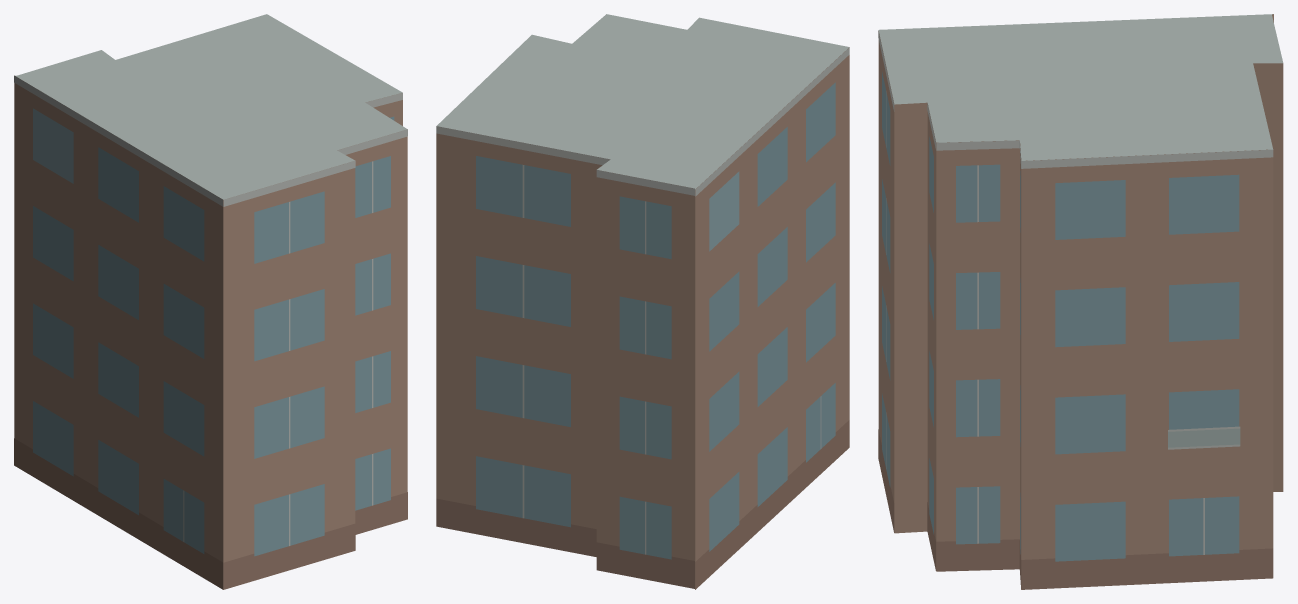
The model's file is survey-upis-32979990.glb.
3 views of the same model, side by side, from view 1: azimuth 30°, elevation 25°; view 2: azimuth 150°, elevation 25°; view 3: azimuth 270°, elevation 25° (orthographic). The views are drawn at different scales.
Visible parts, largest first — view 1: survey-upis-32979990.tmp; view 2: survey-upis-32979990.tmp; view 3: survey-upis-32979990.tmp.
Part boxes in pixels (x1,y1,x2,y2): survey-upis-32979990.tmp: (14, 14, 407, 589); survey-upis-32979990.tmp: (436, 14, 849, 589); survey-upis-32979990.tmp: (878, 14, 1283, 589).
Size of the model in its own units: 9.71 by 13.2 by 11.3.
